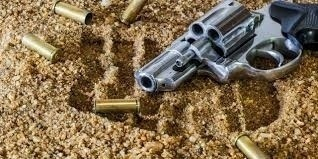pistol: (134, 6, 314, 101)
